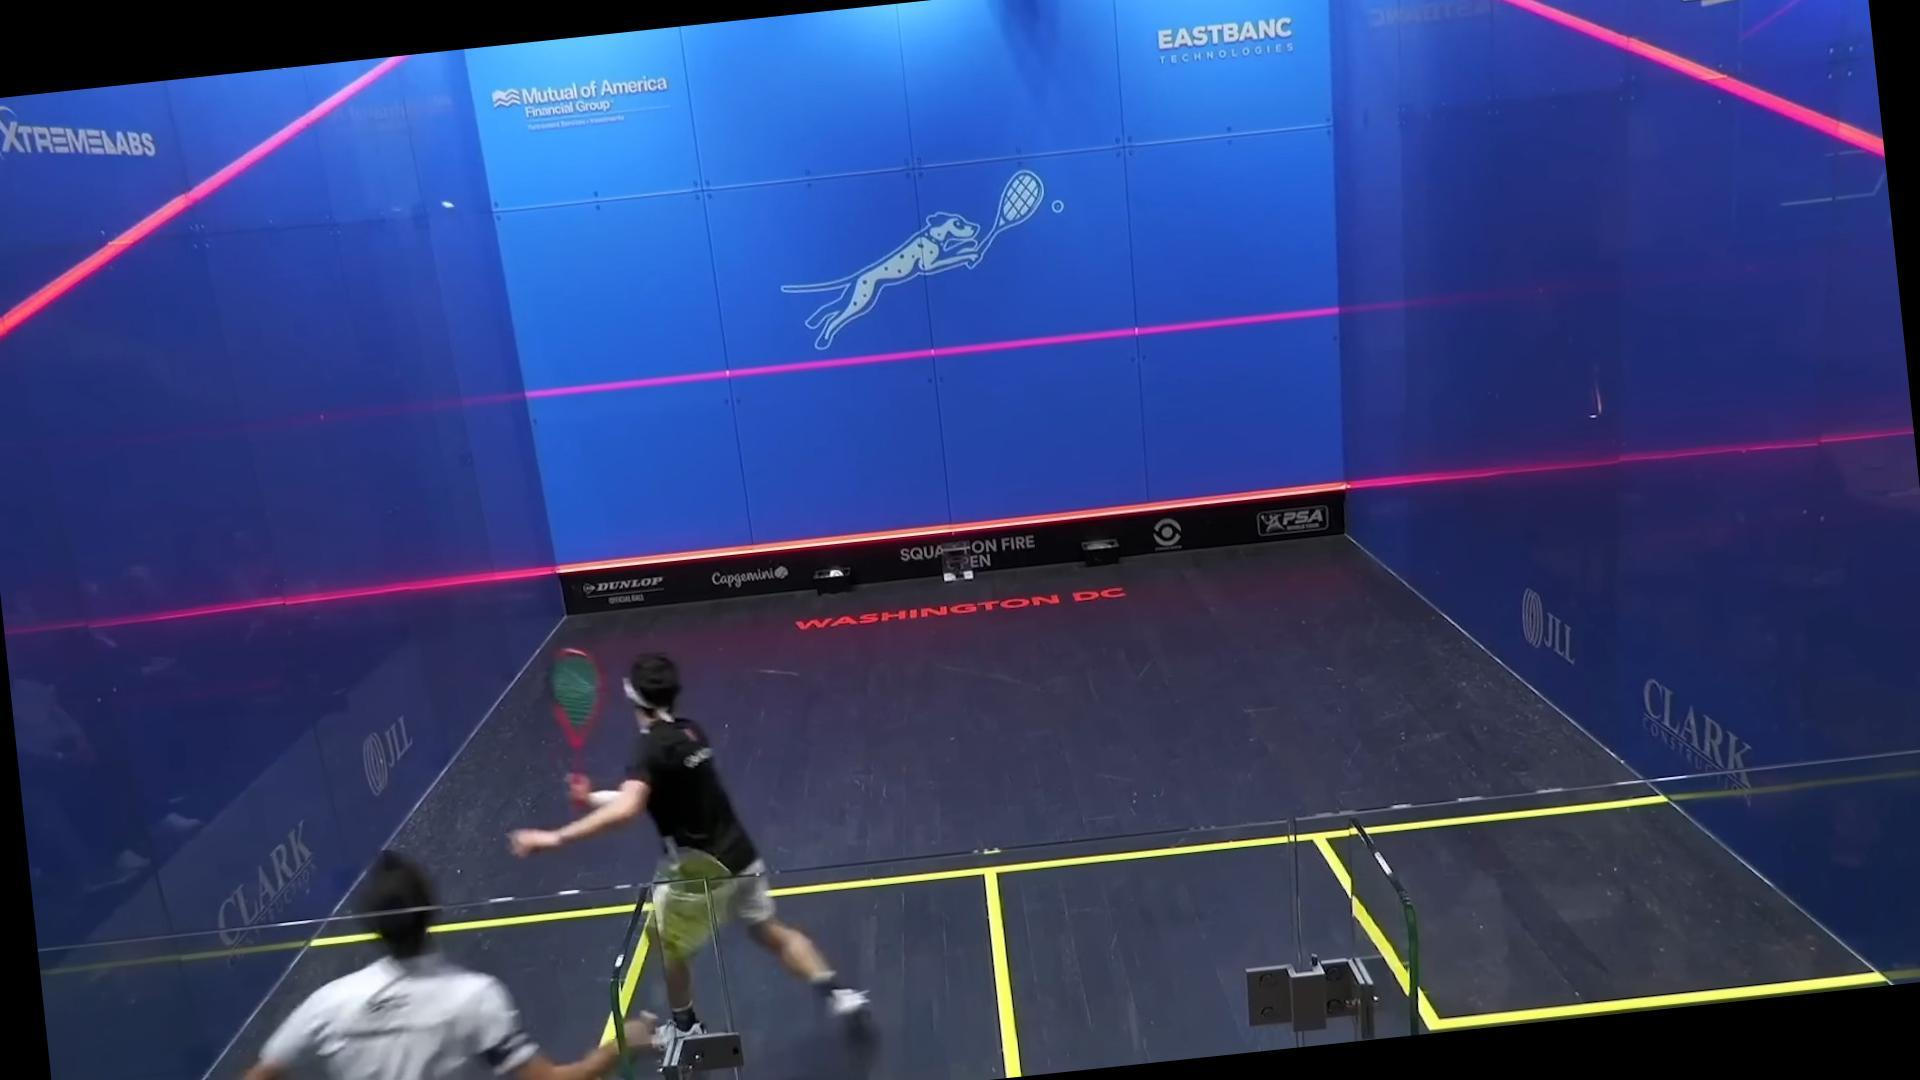Squash-Ball: (429, 185, 468, 225)
